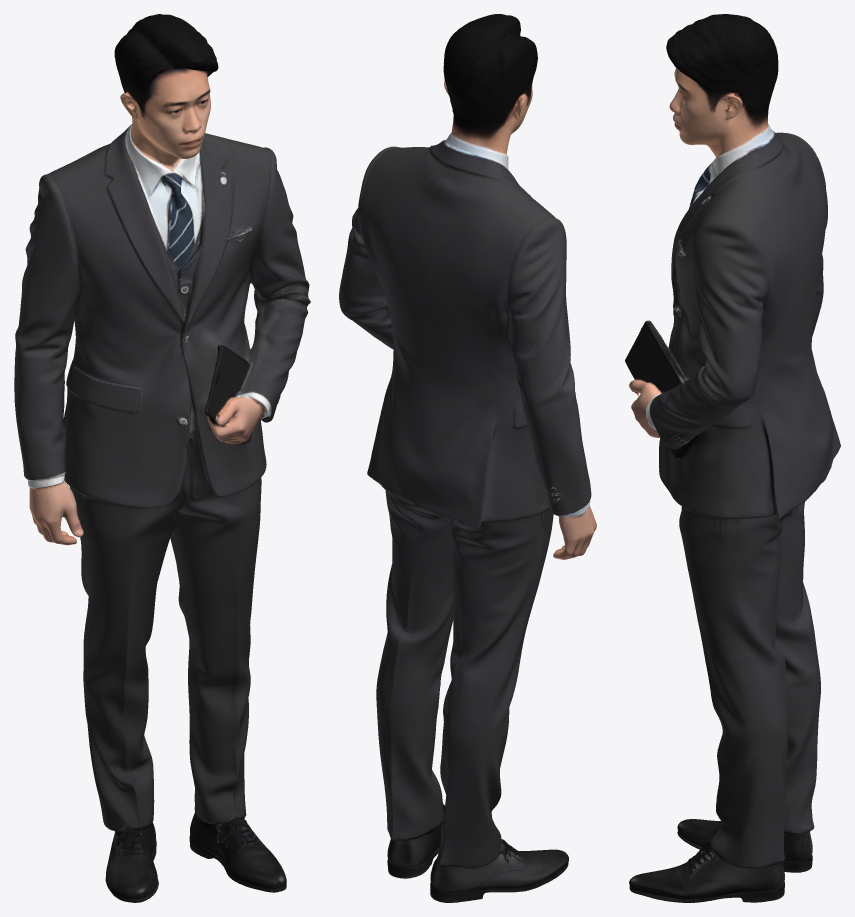
The model's file is scan_male.glb.
3 views of the same model, side by side, from view 1: azimuth 30°, elevation 25°; view 2: azimuth 150°, elevation 25°; view 3: azimuth 270°, elevation 25° (orthographic).
Visible parts, largest first — view 1: businessman; view 2: businessman; view 3: businessman.
Boxes of the visible parts, x1,y1,x2,y2 form: businessman: (14, 14, 310, 902); businessman: (339, 14, 596, 902); businessman: (625, 14, 840, 902).
Size of the model in its own units: 0.5664 by 1.76 by 0.4066.
1 material, 1 textured.
